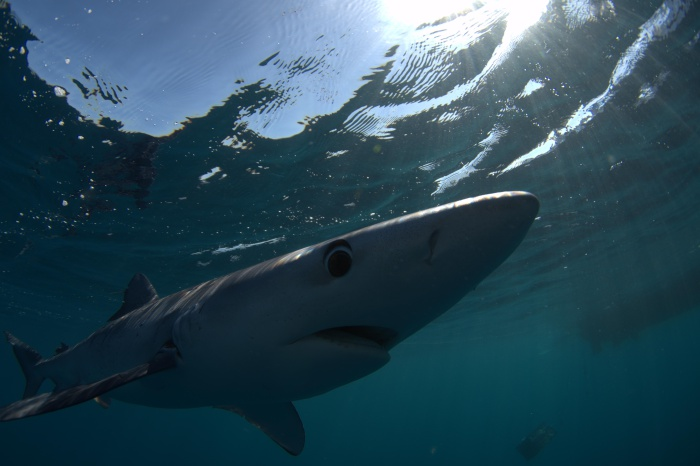Azul: (3, 177, 574, 465)
